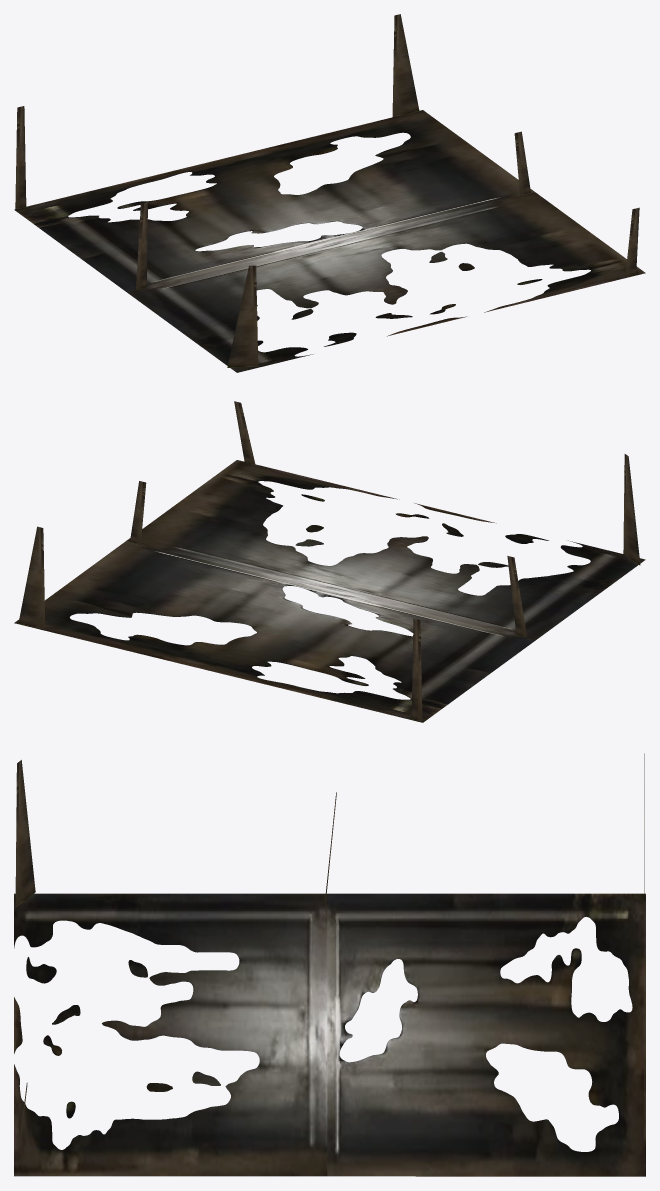
The model's file is shack_dam_hdtex.glb.
3 views of the same model, one above another, from view 1: azimuth 30°, elevation 25°; view 2: azimuth 150°, elevation 25°; view 3: azimuth 270°, elevation 25° (orthographic). The views are drawn at different scales.
Parts seen in each view (by area): view 1: ShackDam; view 2: ShackDam; view 3: ShackDam.
Boxes of the visible parts, x1,y1,x2,y2 form: ShackDam: (14,14,645,372); ShackDam: (14,401,645,722); ShackDam: (14,753,645,1176).
Bounding box in the file's own units: 6.08 × 1.44 × 5.72.
1 material, 1 textured.
